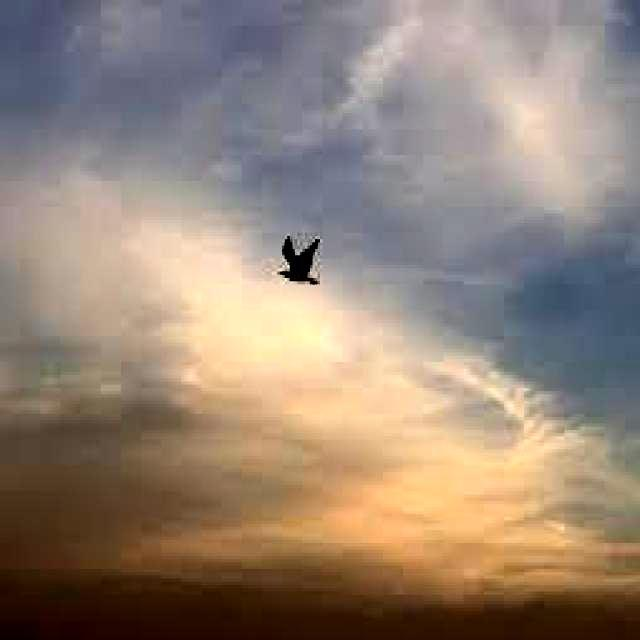bird: (270, 227, 326, 289)
